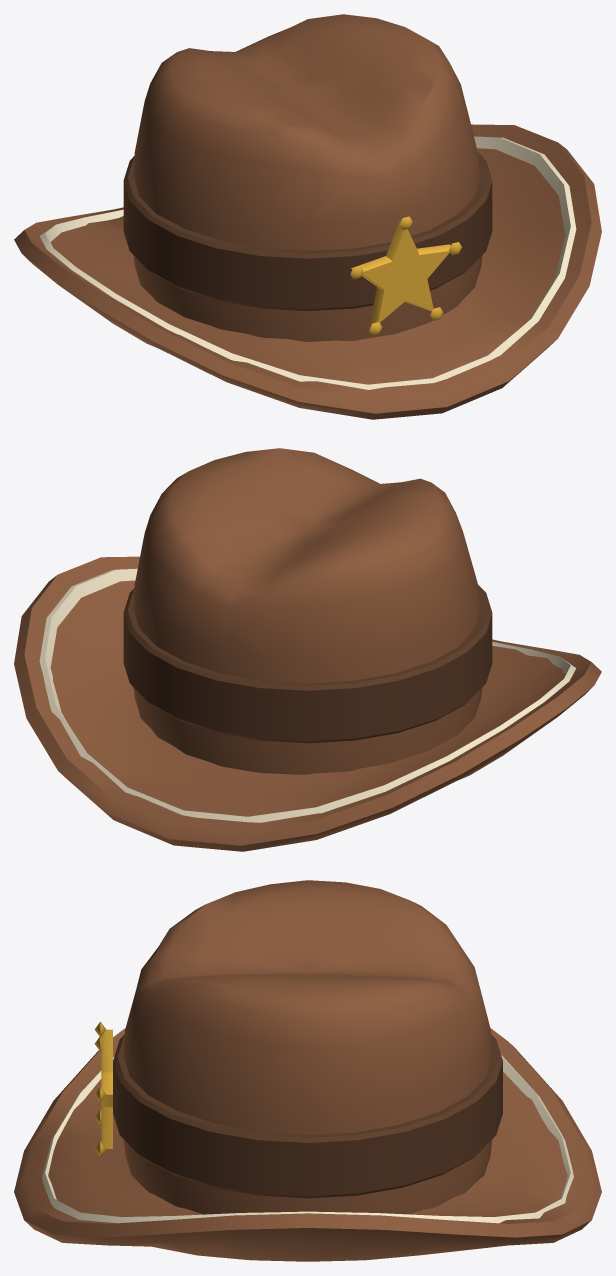
Rendered from hat_cowboy.glb.
3 renders of one model, top to bottom at view 1: azimuth 30°, elevation 25°; view 2: azimuth 150°, elevation 25°; view 3: azimuth 270°, elevation 25°, orthographic. The views are drawn at different scales.
Visible parts, largest first — view 1: Hat; view 2: Hat; view 3: Hat.
Part boxes in pixels (box(x1,y1,x2,y2)): Hat: box(14, 14, 601, 419); Hat: box(14, 448, 601, 851); Hat: box(14, 880, 601, 1261).
Size of the model in its own units: 0.85 by 0.3912 by 0.7905.
